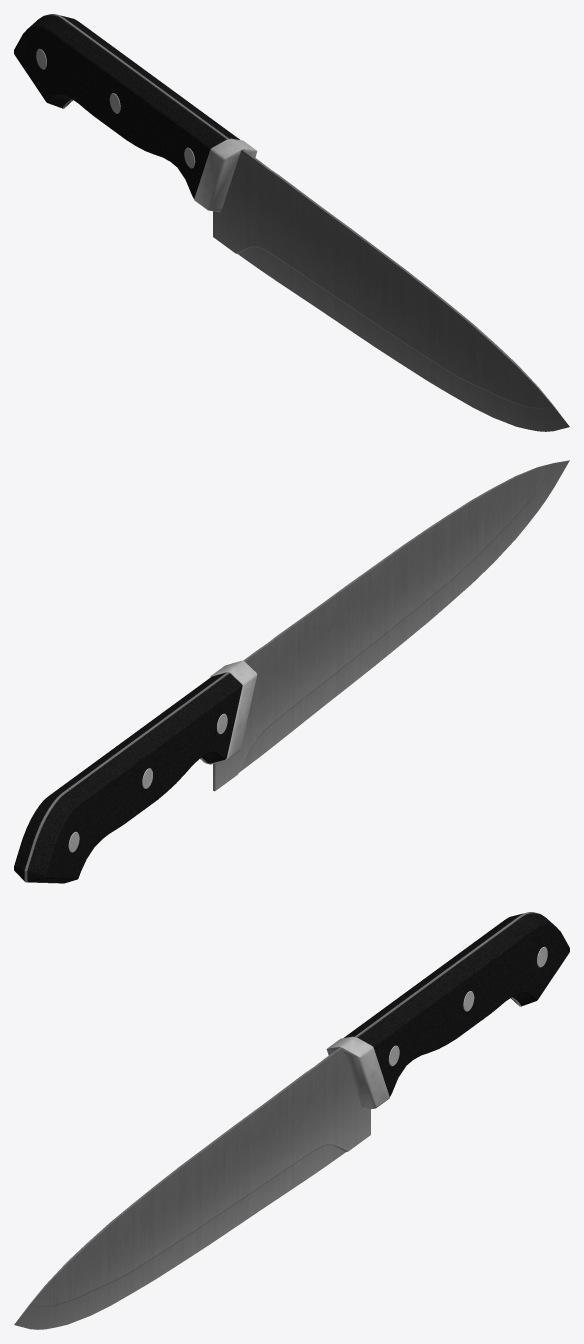
File: Kitchen Knife 1.fbx
3 renders of one model, top to bottom at view 1: azimuth 30°, elevation 25°; view 2: azimuth 150°, elevation 25°; view 3: azimuth 330°, elevation 25°, orthographic.
Visible parts, largest first — view 1: Knife1_Blade, Knife1_Handle, Metal_plate, Knife1_Bolts; view 2: Knife1_Blade, Knife1_Handle, Metal_plate, Knife1_Bolts; view 3: Knife1_Blade, Knife1_Handle, Metal_plate, Knife1_Bolts.
Part boxes in pixels (x1,y1,x2,y2): Knife1_Blade: (39, 14, 569, 431); Knife1_Handle: (14, 15, 244, 198); Metal_plate: (194, 138, 257, 212); Knife1_Bolts: (36, 48, 195, 168); Knife1_Blade: (24, 460, 569, 883); Knife1_Handle: (14, 672, 242, 883); Metal_plate: (206, 660, 257, 764); Knife1_Bolts: (68, 713, 227, 852); Knife1_Blade: (14, 912, 544, 1329); Knife1_Handle: (339, 913, 569, 1096); Metal_plate: (326, 1036, 389, 1110); Knife1_Bolts: (388, 946, 547, 1066).
Bounding box in the file's own units: 1.19 × 3.64 × 32.96.
